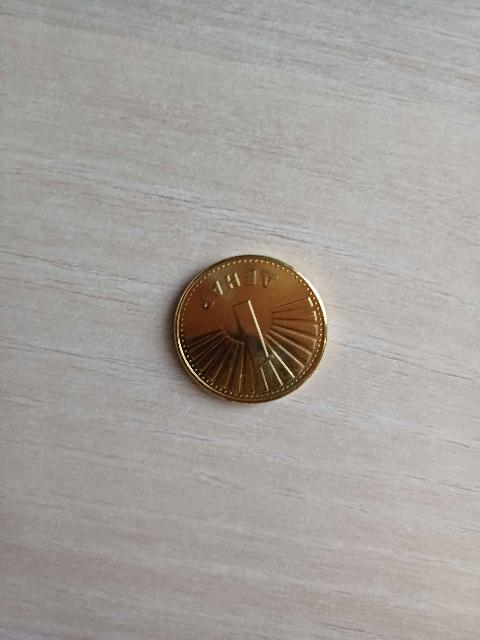1_coin: (175, 256, 326, 402)
